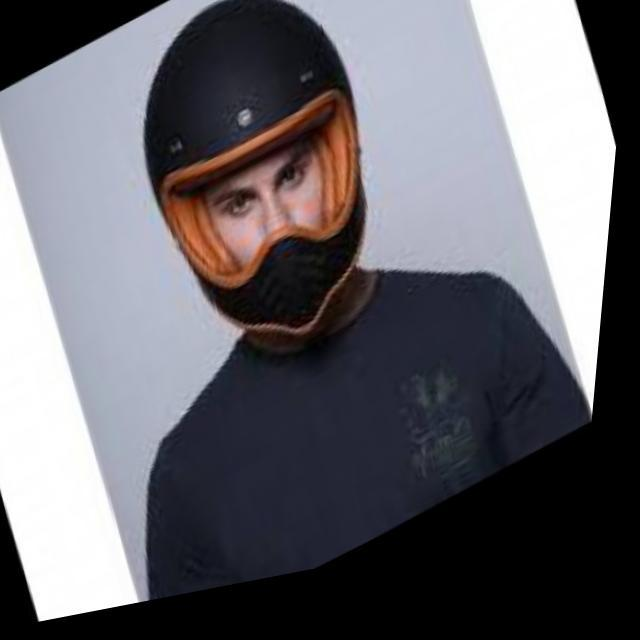Helmet: (134, 0, 376, 353)
